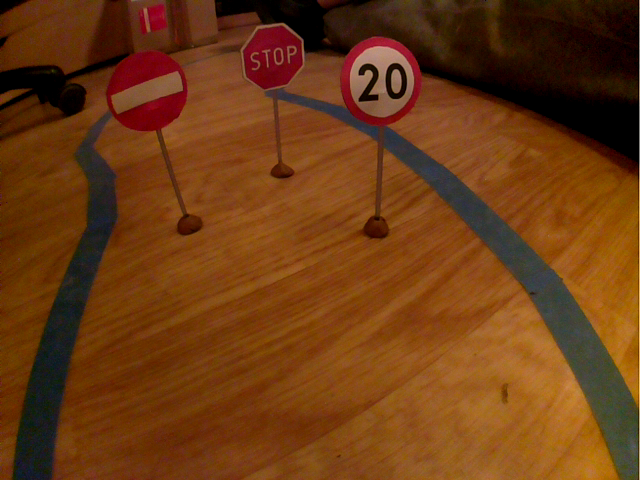Ograniczenie 20: (335, 32, 426, 136)
Stop: (235, 18, 309, 95)
Zakaz: (103, 44, 193, 138)
